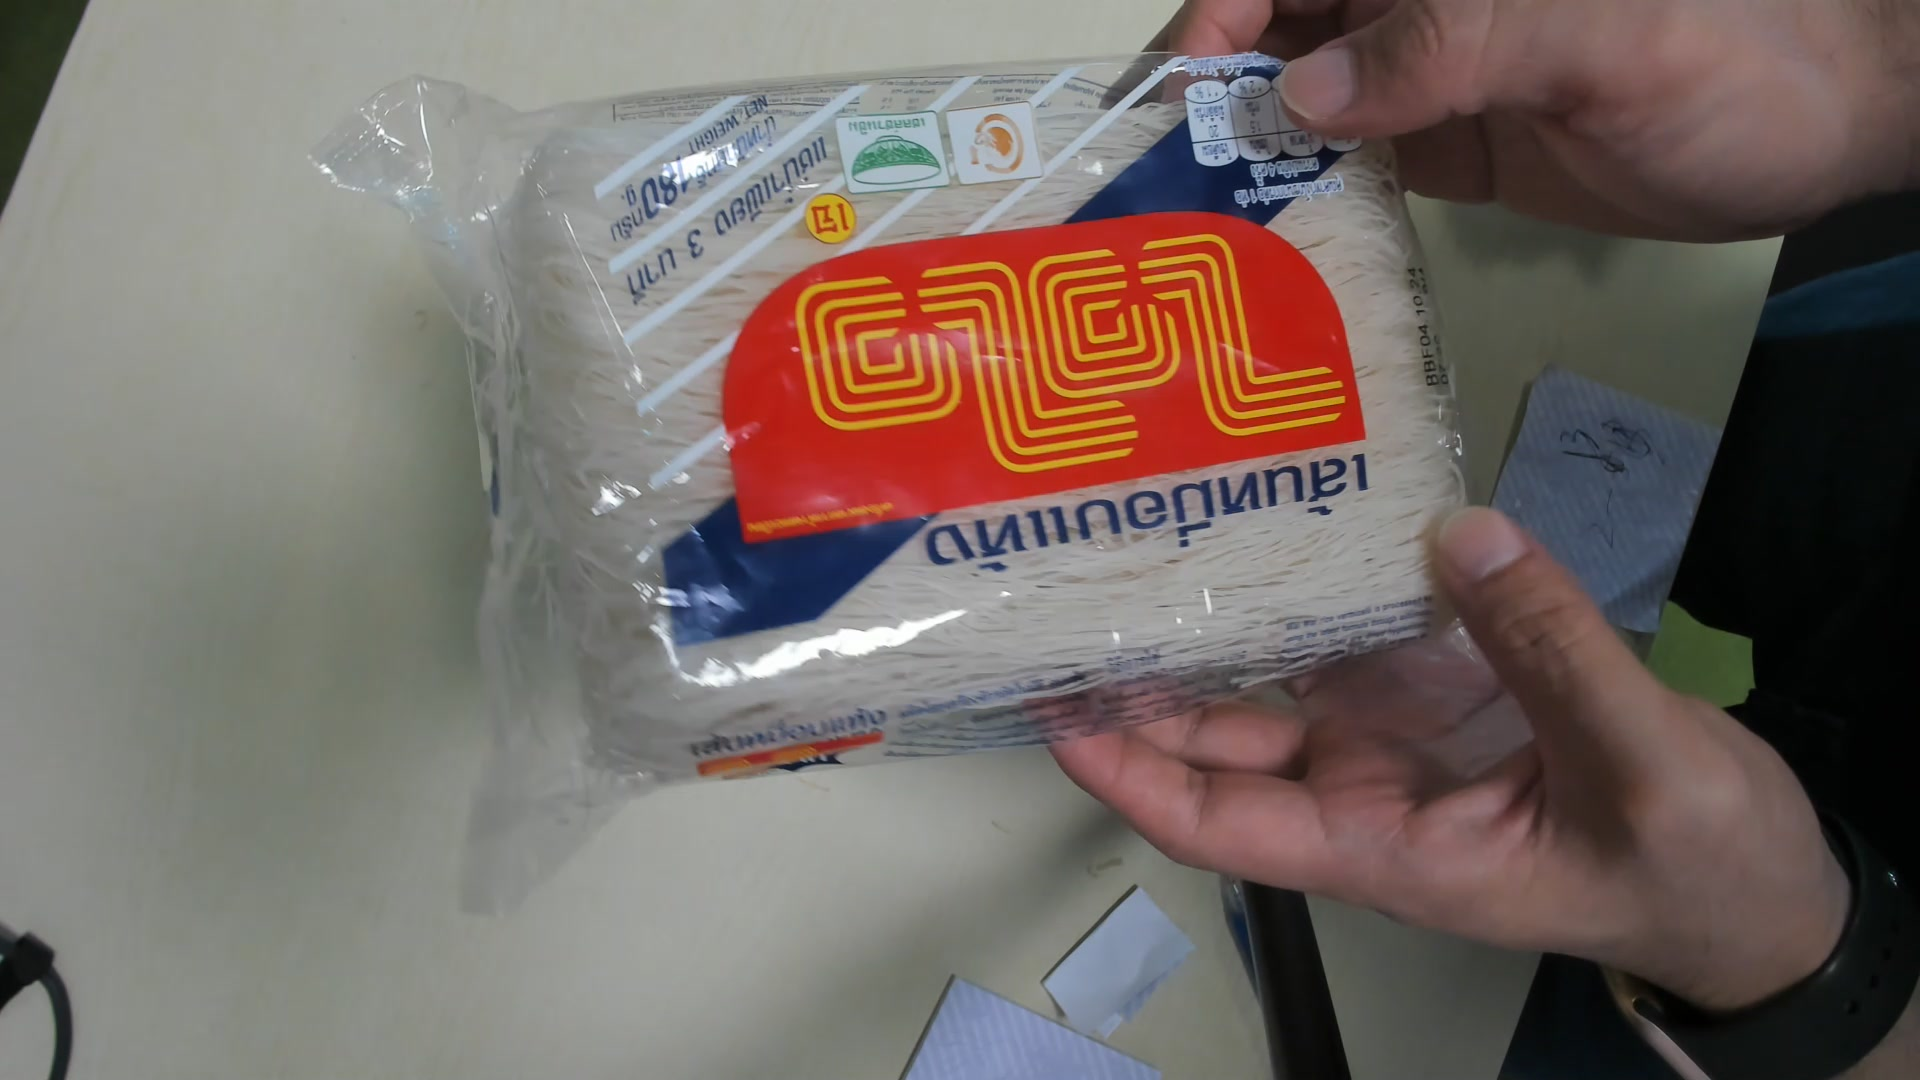BeeHoonVermicelli_100-199g_NonHalal_NonHealthy: (353, 49, 1487, 793)
